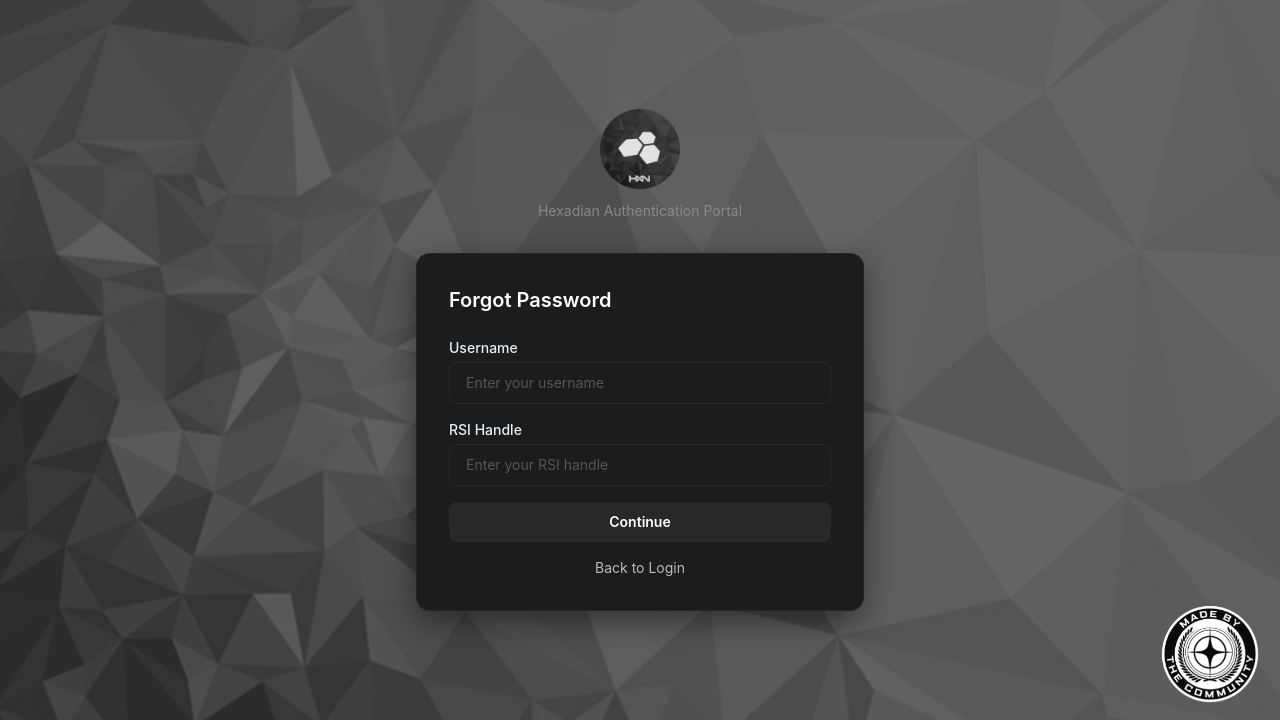
Test: ForgotPasswordPage › Step 1 — Identity › shows validation errors on empty submit
Step 1. Click the button "Continue" → [640, 522], box x1=449 y1=502 x2=831 y2=542
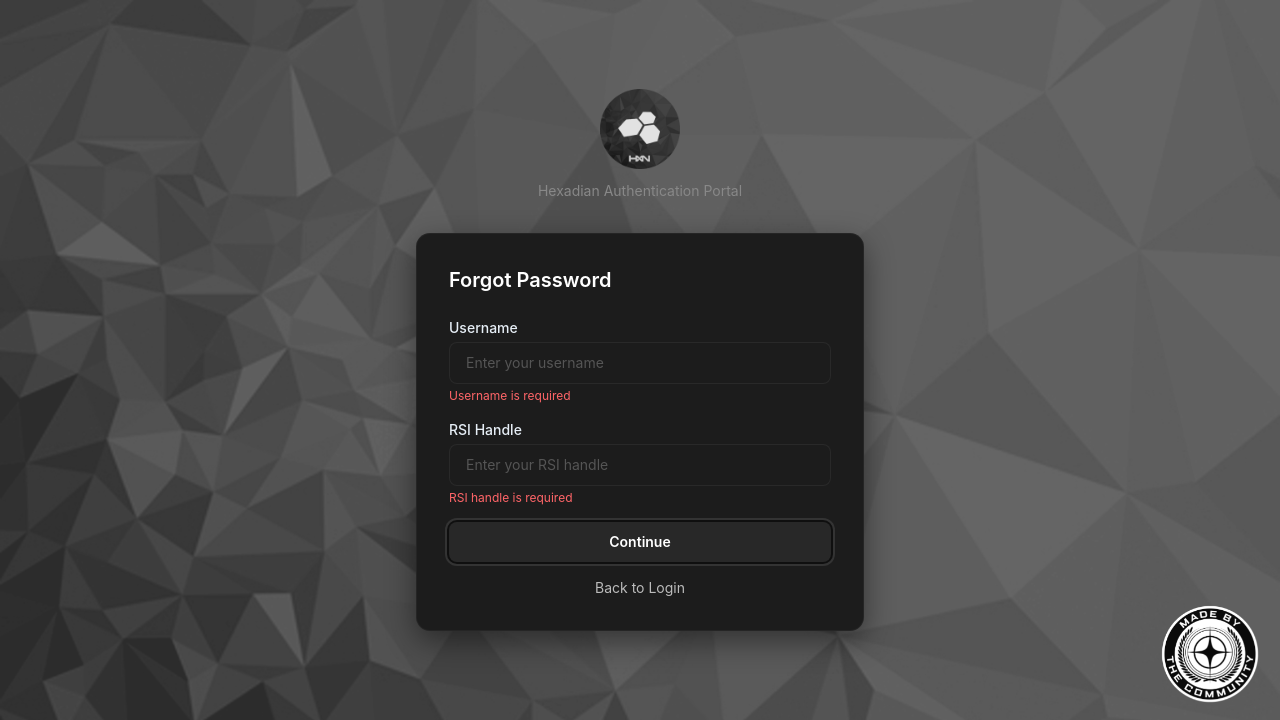
Now the text "Username is required" is shown, box x1=449 y1=388 x2=571 y2=403
Now the text "RSI handle is required" is shown, box x1=449 y1=490 x2=572 y2=505
